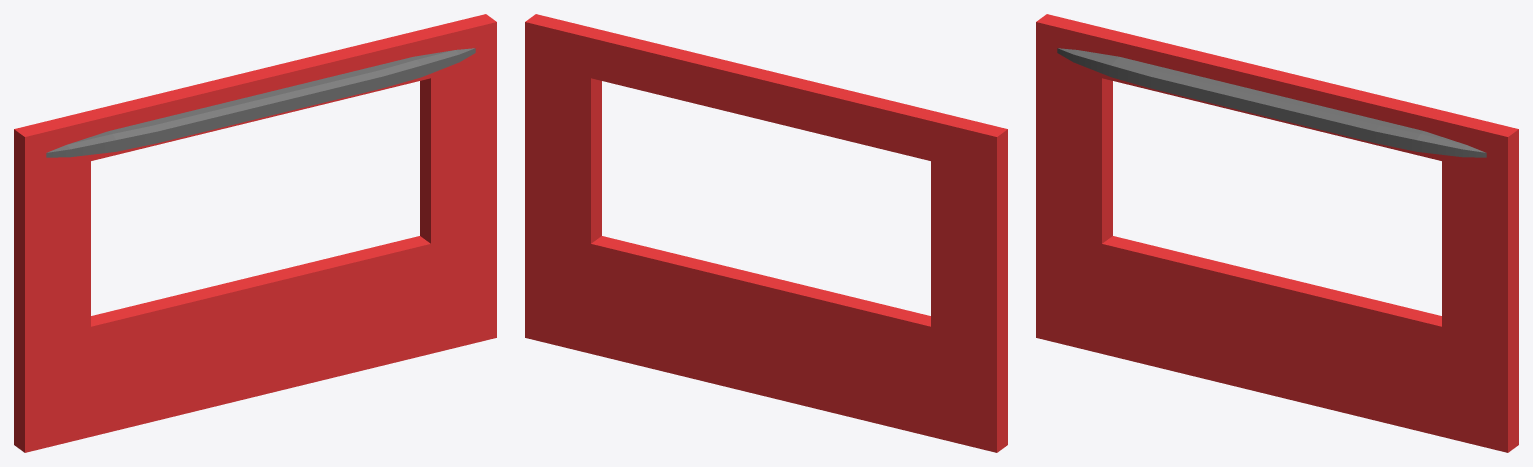
Rendered from Itr_Oven_Door_05.FBX.
3 renders of one model, left to right at view 1: azimuth 30°, elevation 25°; view 2: azimuth 150°, elevation 25°; view 3: azimuth 330°, elevation 25°, orthographic.
Parts seen in each view (by area): view 1: Itr_Oven_Door_05; view 2: Itr_Oven_Door_05; view 3: Itr_Oven_Door_05.
Part boxes in pixels (box(x1,y1,x2,y2)): Itr_Oven_Door_05: box(14, 14, 496, 452); Itr_Oven_Door_05: box(525, 14, 1007, 452); Itr_Oven_Door_05: box(1036, 14, 1518, 452).
Bounding box in the file's own units: 45.15 × 28.87 × 3.37.
